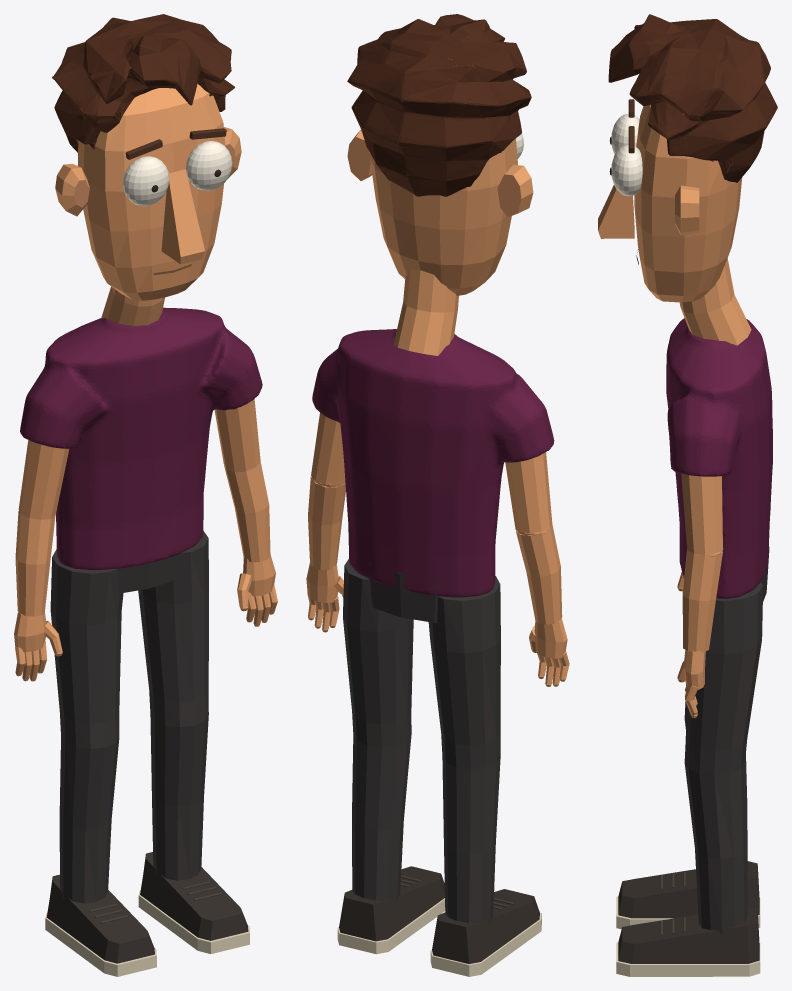
File: character_midpoint_v01.glb
3 renders of one model, left to right at view 1: azimuth 30°, elevation 25°; view 2: azimuth 150°, elevation 25°; view 3: azimuth 270°, elevation 25°, orthographic.
Visible parts, largest first — view 1: shirt_connected, trouser_leg_r, trouser_leg_l, head_face, hair_sculpted_midpoint, shoe_upper_l, shoe_upper_r, forearm_r, forearm_l, upper_arm_r, nose_wedge, upper_arm_l (+9 smaller); view 2: shirt_connected, hair_sculpted_midpoint, trouser_leg_r, trouser_leg_l, head_face, shoe_upper_r, shoe_upper_l, neck, forearm_r, upper_arm_r, forearm_l, trousers_hips (+7 smaller); view 3: shirt_connected, trouser_leg_l, hair_sculpted_midpoint, head_face, shoe_upper_l, shoe_upper_r, forearm_l, neck, upper_arm_l, shoe_sole_l, nose_wedge, eye_white_l (+4 smaller).
Part boxes in pixels (x1,y1,x2,y2): shirt_connected: (20, 307, 262, 569); trouser_leg_r: (50, 549, 123, 903); trouser_leg_l: (138, 531, 208, 880); head_face: (77, 67, 225, 300); hair_sculpted_midpoint: (52, 14, 234, 152); shoe_upper_l: (140, 852, 248, 940); shoe_upper_r: (46, 874, 154, 963); forearm_r: (15, 511, 55, 616); forearm_l: (224, 462, 270, 562); upper_arm_r: (18, 440, 69, 519); nose_wedge: (161, 169, 204, 264); upper_arm_l: (214, 399, 260, 472); shirt_connected: (312, 329, 554, 597); hair_sculpted_midpoint: (347, 14, 531, 196); trouser_leg_r: (428, 576, 500, 924); trouser_leg_l: (343, 559, 413, 901); head_face: (370, 103, 517, 295); shoe_upper_r: (432, 889, 539, 963); shoe_upper_l: (339, 866, 444, 941); neck: (393, 269, 458, 355); forearm_r: (516, 524, 562, 624); upper_arm_r: (505, 452, 552, 532); forearm_l: (308, 476, 345, 570); trousers_hips: (368, 563, 441, 622); shirt_connected: (666, 318, 772, 598); trouser_leg_l: (684, 582, 763, 933); hair_sculpted_midpoint: (608, 14, 777, 182); head_face: (634, 104, 742, 302); shoe_upper_l: (618, 907, 759, 963); shoe_upper_r: (618, 861, 759, 918); forearm_l: (682, 550, 722, 652); neck: (679, 258, 751, 345); upper_arm_l: (681, 474, 722, 554); shoe_sole_l: (616, 942, 760, 976); nose_wedge: (598, 185, 634, 238); eye_white_l: (611, 144, 642, 196).
Size of the model in its own units: 0.5294 by 1.77 by 0.3158.
